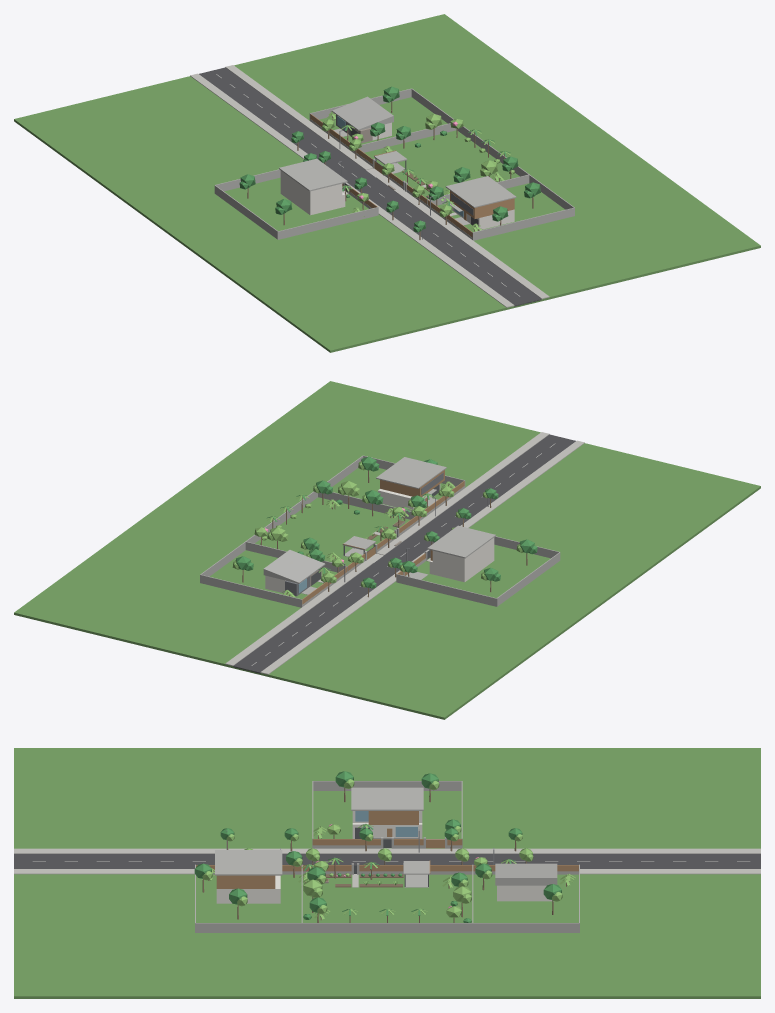
File: Exterior_Bairro.fbx
3 views of the same model, one above another, from view 1: azimuth 30°, elevation 25°; view 2: azimuth 150°, elevation 25°; view 3: azimuth 270°, elevation 25° (orthographic). The views are drawn at different scales.
Visible parts, largest first — view 1: SM_Terreno_Base, SM_Rua, SM_Muros_Portoes, SM_Calcadas_Pavimentos, SM_Casa_Vizinha_C, SM_Casa_Vizinha_A, SM_Casa_Vizinha_B, SM_Vegetacao_Lote, SM_Vegetacao_Rua; view 2: SM_Terreno_Base, SM_Rua, SM_Muros_Portoes, SM_Calcadas_Pavimentos, SM_Casa_Vizinha_C, SM_Casa_Vizinha_A, SM_Casa_Vizinha_B, SM_Vegetacao_Lote, SM_Vegetacao_Rua; view 3: SM_Terreno_Base, SM_Muros_Portoes, SM_Rua, SM_Calcadas_Pavimentos, SM_Casa_Vizinha_C, SM_Casa_Vizinha_A, SM_Casa_Vizinha_B, SM_Vegetacao_Lote, SM_Vegetacao_Rua, SM_Jardim_Canteiros.
Boxes of the visible parts, x1,y1,x2,y2 form: SM_Terreno_Base: (14,14,760,352); SM_Rua: (199,67,541,306); SM_Muros_Portoes: (214,88,574,240); SM_Calcadas_Pavimentos: (190,65,549,307); SM_Casa_Vizinha_C: (239,153,368,225); SM_Casa_Vizinha_A: (428,176,540,231); SM_Casa_Vizinha_B: (327,86,399,143); SM_Vegetacao_Lote: (381,114,518,201); SM_Vegetacao_Rua: (291,119,452,239); SM_Terreno_Base: (14,381,760,719); SM_Rua: (233,434,575,673); SM_Muros_Portoes: (200,455,560,607); SM_Calcadas_Pavimentos: (225,432,584,674); SM_Casa_Vizinha_C: (400,525,537,592); SM_Casa_Vizinha_A: (358,456,454,510); SM_Casa_Vizinha_B: (232,549,344,596); SM_Vegetacao_Lote: (254,480,411,561); SM_Vegetacao_Rua: (321,486,498,597); SM_Terreno_Base: (14,748,760,998); SM_Muros_Portoes: (195,781,579,932); SM_Rua: (14,829,760,868); SM_Calcadas_Pavimentos: (14,839,760,887); SM_Casa_Vizinha_C: (312,771,461,839); SM_Casa_Vizinha_A: (194,850,302,919); SM_Casa_Vizinha_B: (474,857,575,914); SM_Vegetacao_Lote: (298,857,471,922); SM_Vegetacao_Rua: (220,828,533,864); SM_Jardim_Canteiros: (303,874,403,887).
Bounding box in the file's own units: 110 × 7.42 × 140.
